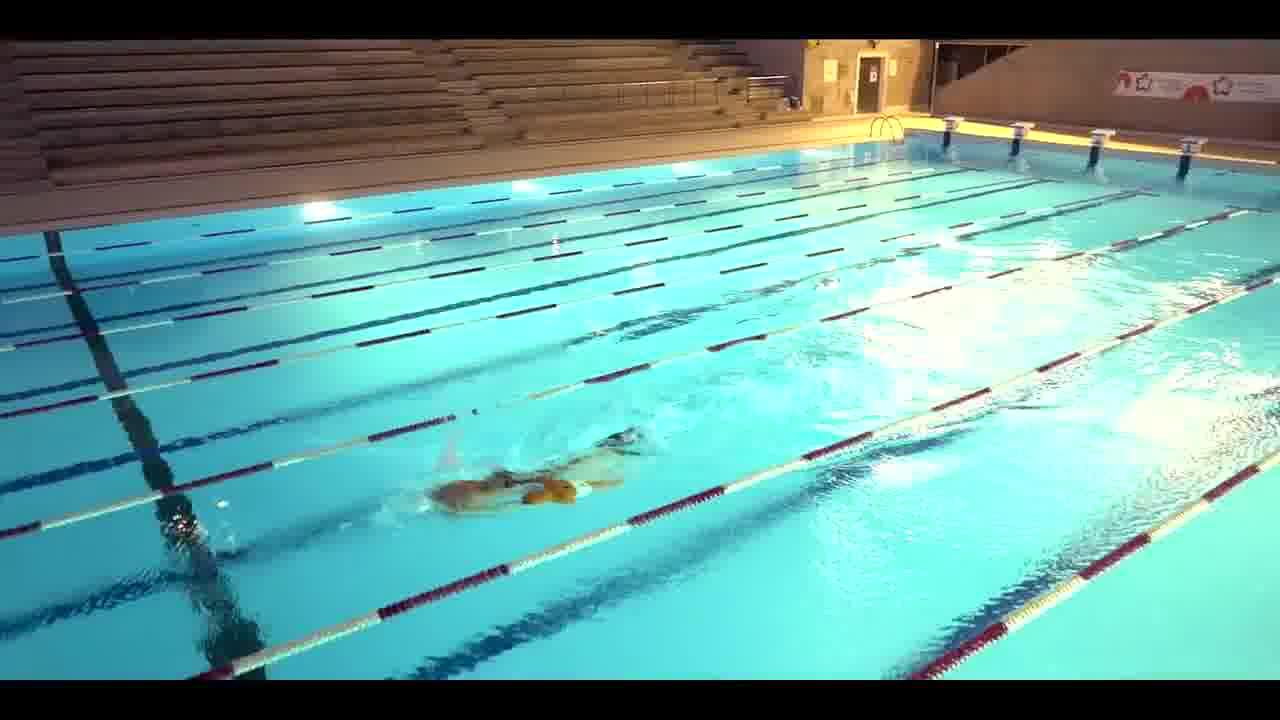swimmer: (394, 474, 504, 521)
